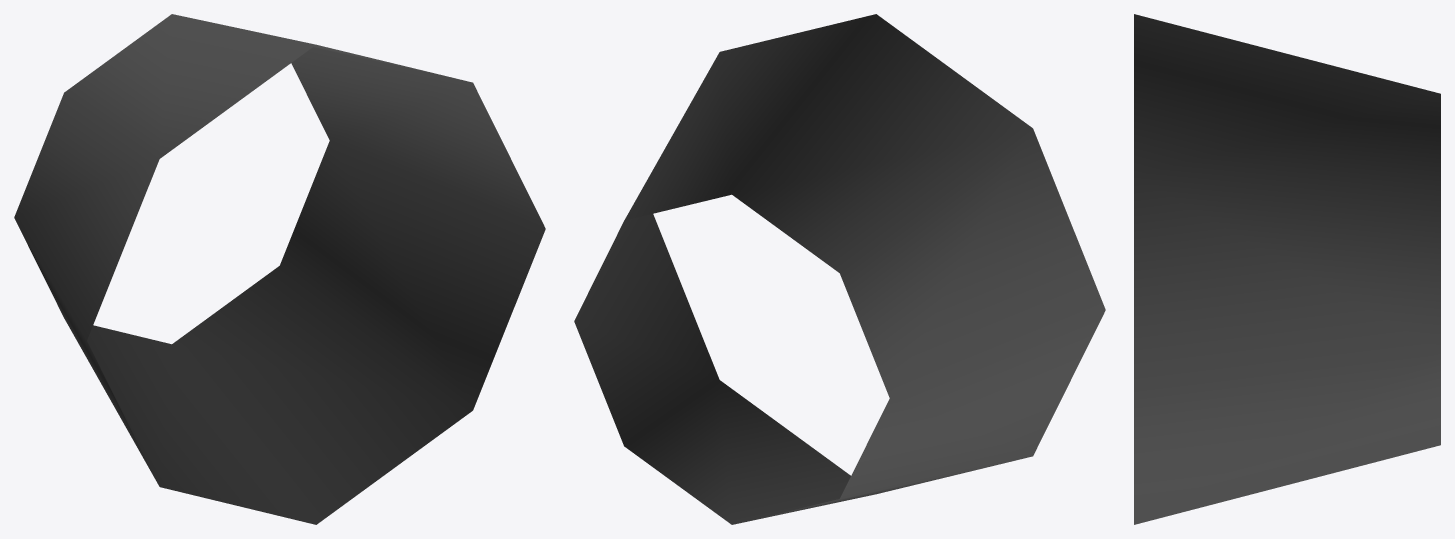
Rendered from stat_vossk_middle2.glb.
3 renders of one model, left to right at view 1: azimuth 30°, elevation 25°; view 2: azimuth 150°, elevation 25°; view 3: azimuth 270°, elevation 25°, orthographic. The views are drawn at different scales.
Visible parts, largest first — view 1: group_13; view 2: group_13; view 3: group_13.
Boxes of the visible parts, x1,y1,x2,y2 form: group_13: [14, 14, 545, 524]; group_13: [574, 14, 1105, 524]; group_13: [1134, 14, 1440, 524].
Size of the model in its own units: 11240 by 11240 by 6126.
1 material, 1 textured.
